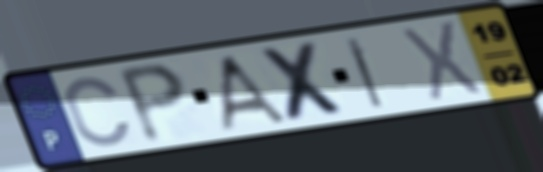A: (216, 52, 293, 134)
C: (61, 74, 135, 149)
I: (342, 34, 388, 111)
P: (113, 60, 190, 147)
X: (254, 39, 355, 124), (397, 18, 487, 104)
